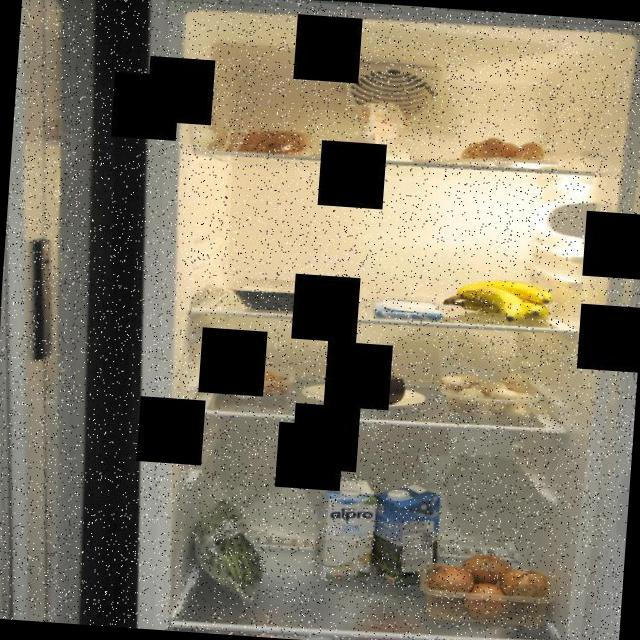Cebolla: (420, 546, 552, 627)
Champiñones: (433, 364, 541, 422)
Huevos: (456, 130, 550, 171)
Leche: (365, 479, 444, 590), (308, 473, 379, 583)
Plátano: (438, 272, 556, 328)
Queso: (342, 357, 414, 410)
